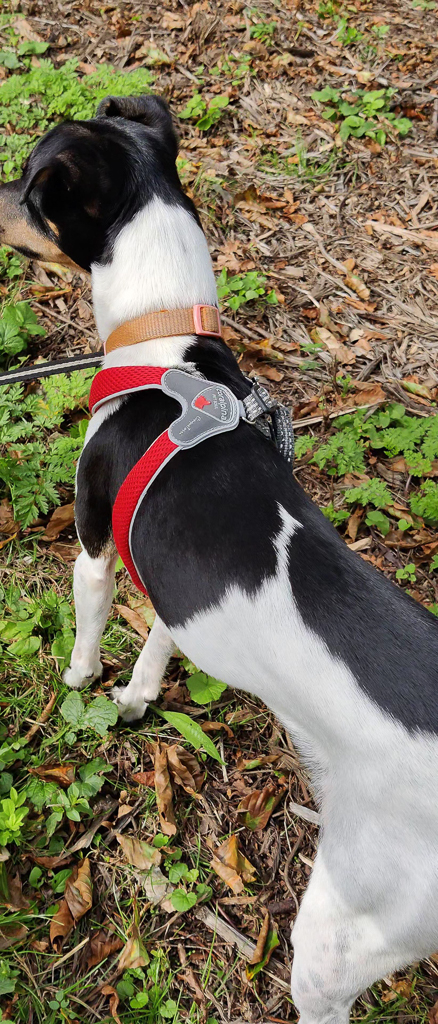Dog: (0, 79, 438, 1024)
